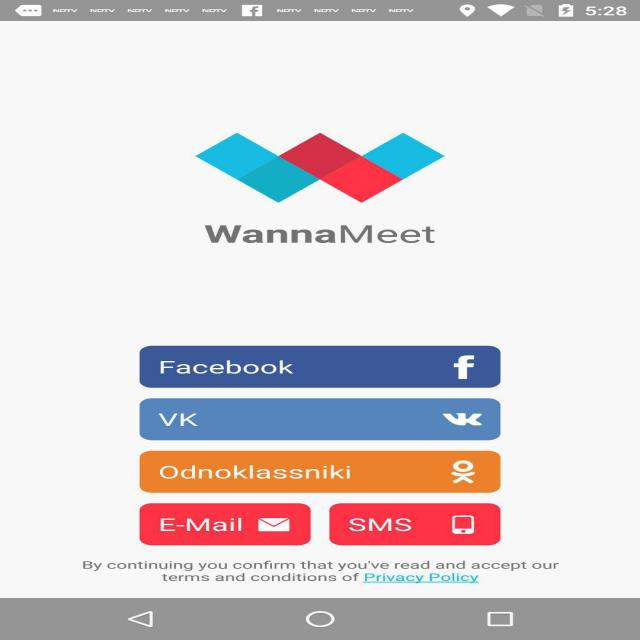button: (132, 447, 540, 488), (116, 396, 560, 432), (126, 351, 555, 388), (132, 497, 318, 549), (330, 499, 529, 543)
icon: (176, 111, 464, 203)
text: (68, 559, 564, 589), (182, 222, 488, 242)
